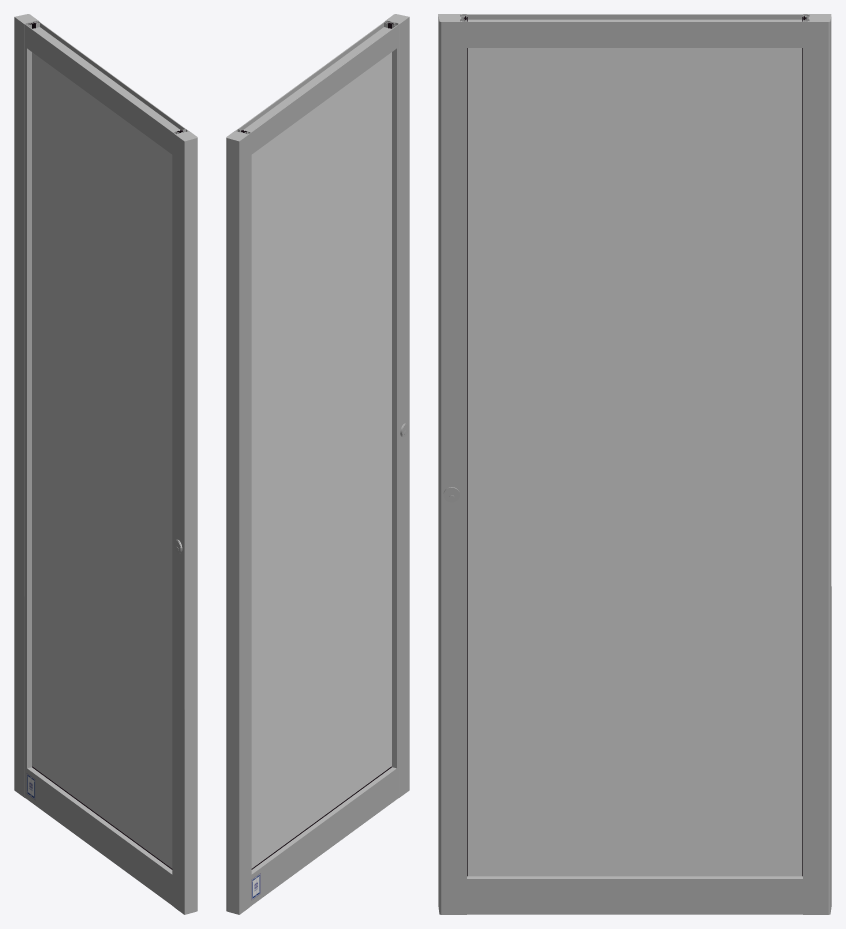
The model's file is D200_Slab_AL.glb.
3 views of the same model, side by side, from view 1: azimuth 30°, elevation 25°; view 2: azimuth 150°, elevation 25°; view 3: azimuth 270°, elevation 25° (orthographic). The views are drawn at different scales.
Parts seen in each view (by area): view 1: Cube.001, PROFILE_curve_.020, D200, PROFILE_curve_.012, PROFILE_curve_.015; view 2: Cube.001, D200, PROFILE_curve_.020, PROFILE_curve_.012, PROFILE_curve_.015; view 3: Cube.001, D200, PROFILE_curve_.020, PROFILE_curve_.015, PROFILE_curve_.012, rubber_curve_.015, rubber_curve_.013.
Boxes of the visible parts, x1=… form: Cube.001: x1=32, y1=52, x2=172, y2=868; PROFILE_curve_.020: x1=172, y1=129, x2=197, y2=914; D200: x1=14, y1=14, x2=40, y2=798; PROFILE_curve_.012: x1=27, y1=22, x2=185, y2=154; PROFILE_curve_.015: x1=27, y1=767, x2=172, y2=905; Cube.001: x1=251, y1=52, x2=391, y2=868; D200: x1=226, y1=129, x2=251, y2=914; PROFILE_curve_.020: x1=383, y1=14, x2=409, y2=798; PROFILE_curve_.012: x1=238, y1=22, x2=396, y2=154; PROFILE_curve_.015: x1=251, y1=767, x2=396, y2=905; Cube.001: x1=467, y1=48, x2=802, y2=876; D200: x1=803, y1=14, x2=831, y2=914; PROFILE_curve_.020: x1=438, y1=14, x2=466, y2=914; PROFILE_curve_.015: x1=467, y1=876, x2=802, y2=914; PROFILE_curve_.012: x1=467, y1=14, x2=802, y2=47; rubber_curve_.015: x1=802, y1=18, x2=806, y2=876; rubber_curve_.013: x1=464, y1=18, x2=467, y2=876.
Size of the model in its own units: 0.054 by 2.29 by 0.9144.
5 materials, 1 textured.
